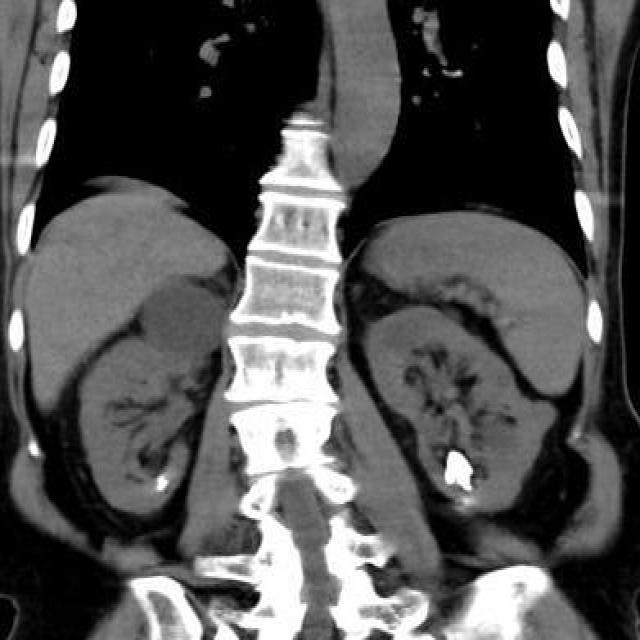Tas_Var: (444, 446, 474, 494), (458, 496, 475, 512), (155, 478, 171, 494), (155, 475, 166, 485)
